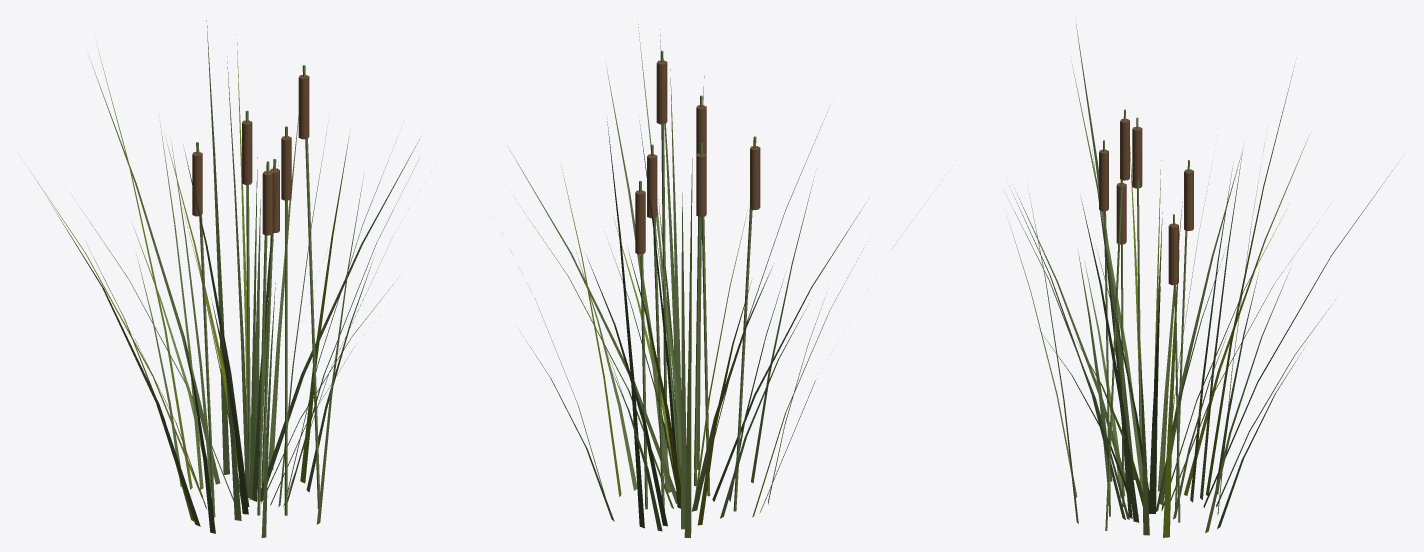
The model's file is reeds_3.glb.
3 views of the same model, side by side, from view 1: azimuth 30°, elevation 25°; view 2: azimuth 150°, elevation 25°; view 3: azimuth 270°, elevation 25° (orthographic). The views are drawn at different scales.
Visible parts, largest first — view 1: reeds_3; view 2: reeds_3; view 3: reeds_3.
Part boxes in pixels (x1=…): reeds_3: x1=30, y1=20, x2=419, y2=537; reeds_3: x1=493, y1=21, x2=894, y2=537; reeds_3: x1=1009, y1=19, x2=1393, y2=537.
Size of the model in its own units: 1.99 by 1.97 by 1.73.
